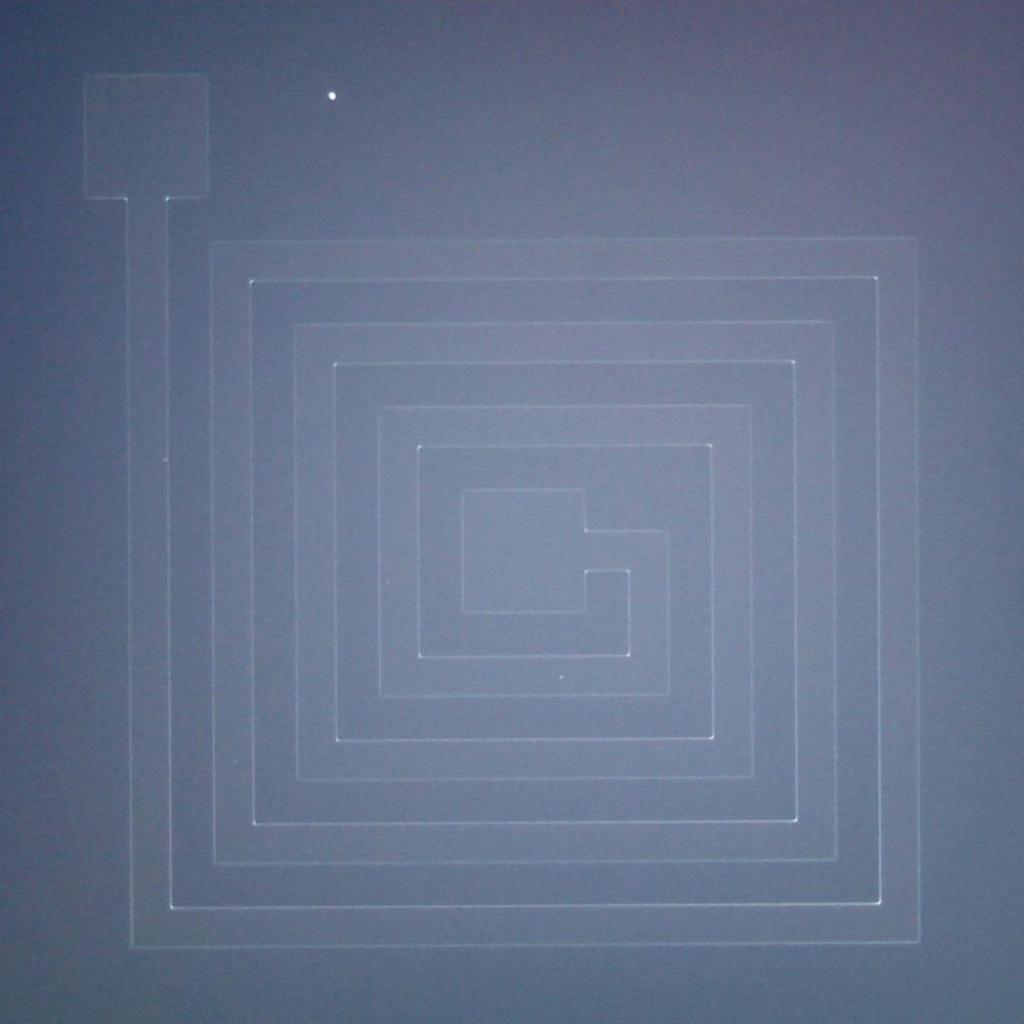dot: (329, 93, 336, 101), (163, 458, 167, 462), (559, 675, 563, 679)
